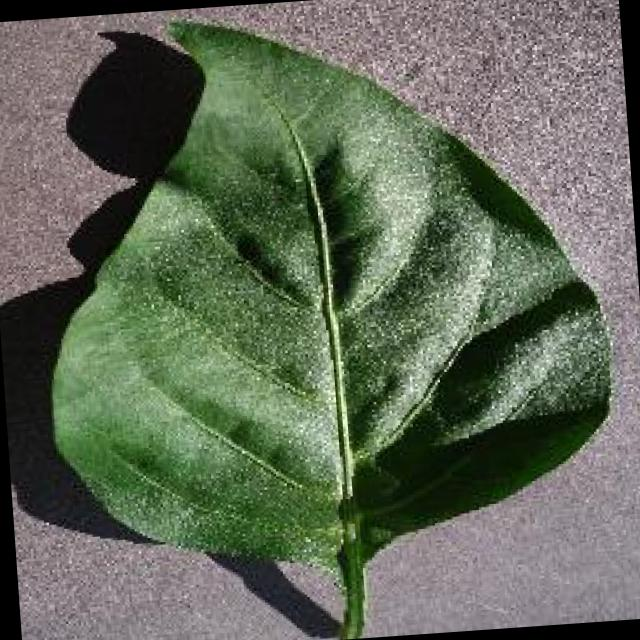Chilli_Healthy: (19, 0, 629, 640)
